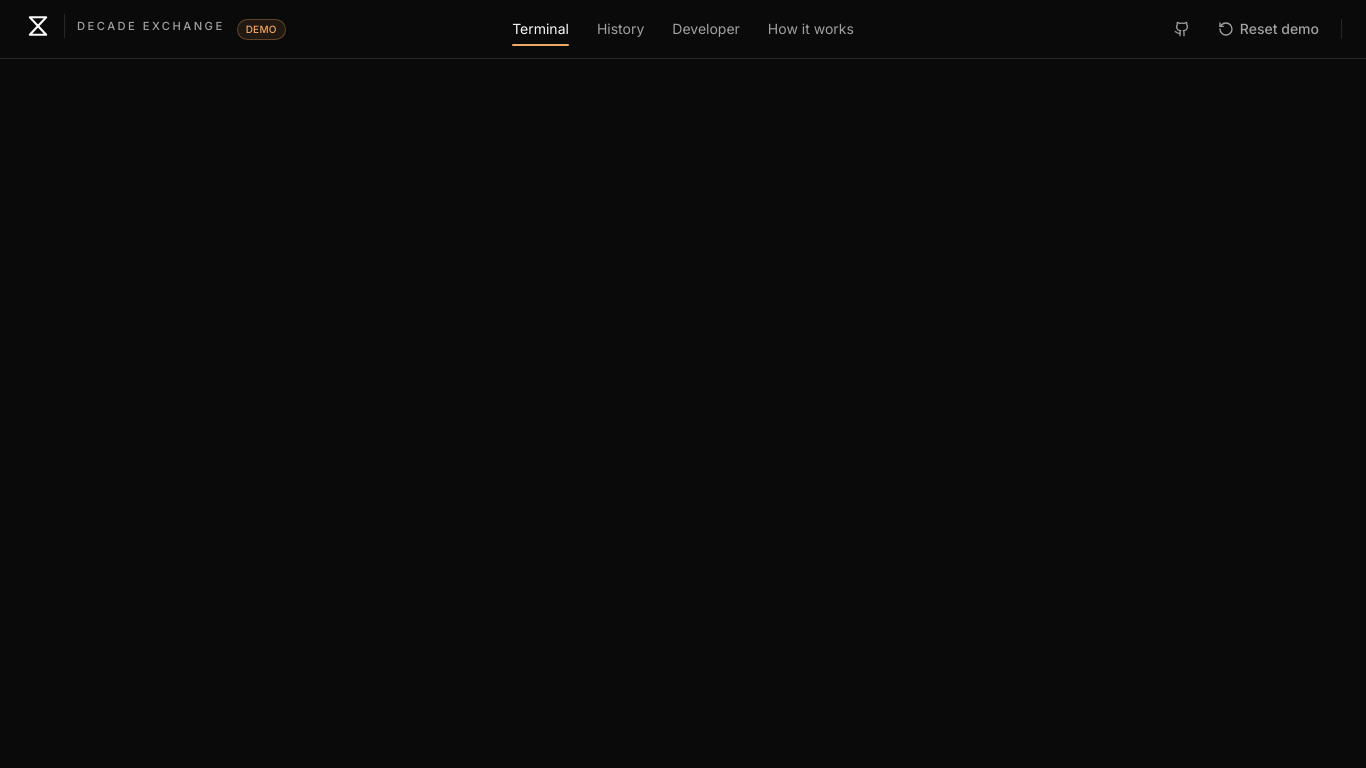
Test: AppHeader › opens a confirmation dialog from the reset action
The width and height of the screenshot is (1366, 768).
Step 1. Click the button "Reset demo" → click(1268, 29), box [1208, 13, 1329, 45]
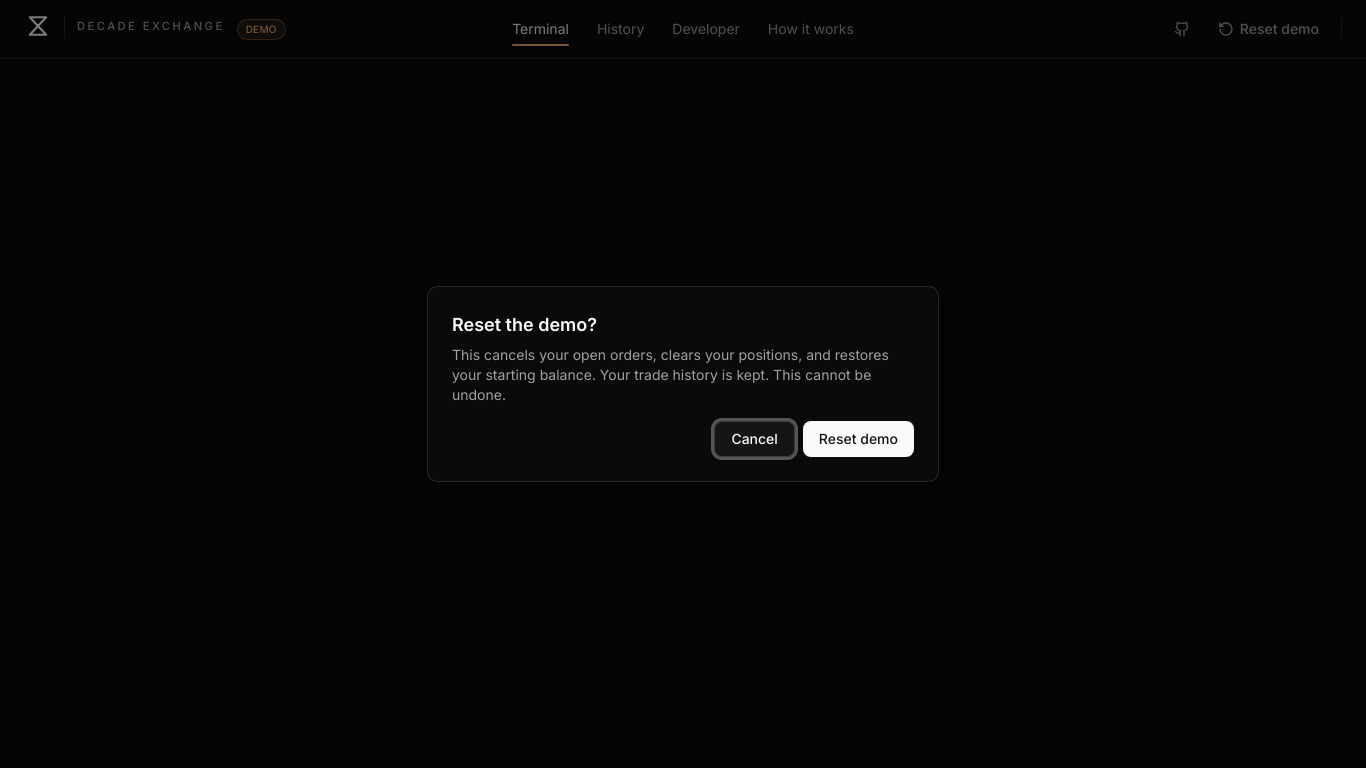
Result: the dialog is shown at [427, 286, 939, 482]
Result: the text "trade history is kept" is shown at [452, 346, 889, 403]
